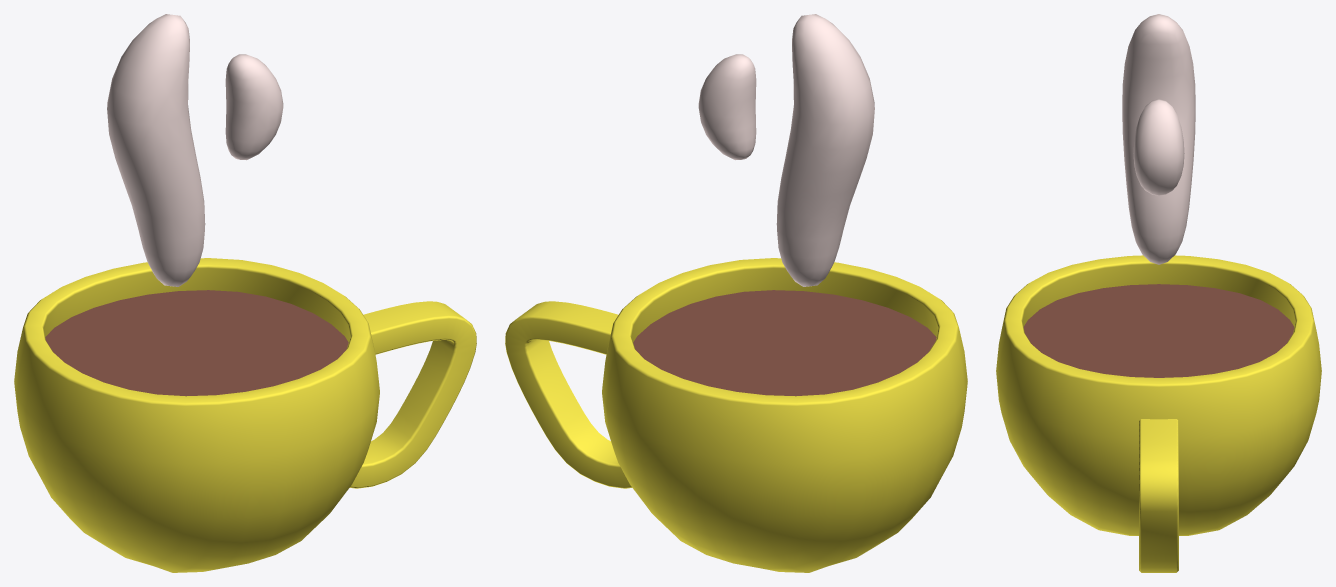
File: Town_16_Mug_1.glb
3 views of the same model, side by side, from view 1: azimuth 30°, elevation 25°; view 2: azimuth 150°, elevation 25°; view 3: azimuth 270°, elevation 25° (orthographic). The views are drawn at different scales.
Visible parts, largest first — view 1: Town_16_Mug_1; view 2: Town_16_Mug_1; view 3: Town_16_Mug_1.
Boxes of the visible parts, x1,y1,x2,y2 form: Town_16_Mug_1: (14, 14, 476, 572); Town_16_Mug_1: (505, 14, 967, 572); Town_16_Mug_1: (996, 14, 1321, 572).
Bounding box in the file's own units: 0.3276 × 0.3942 × 0.2394.
1 material, 1 textured.
